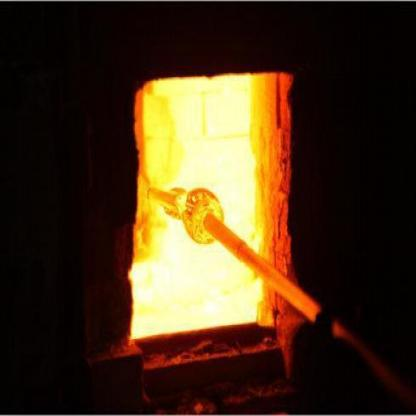fire: (123, 74, 267, 340)
